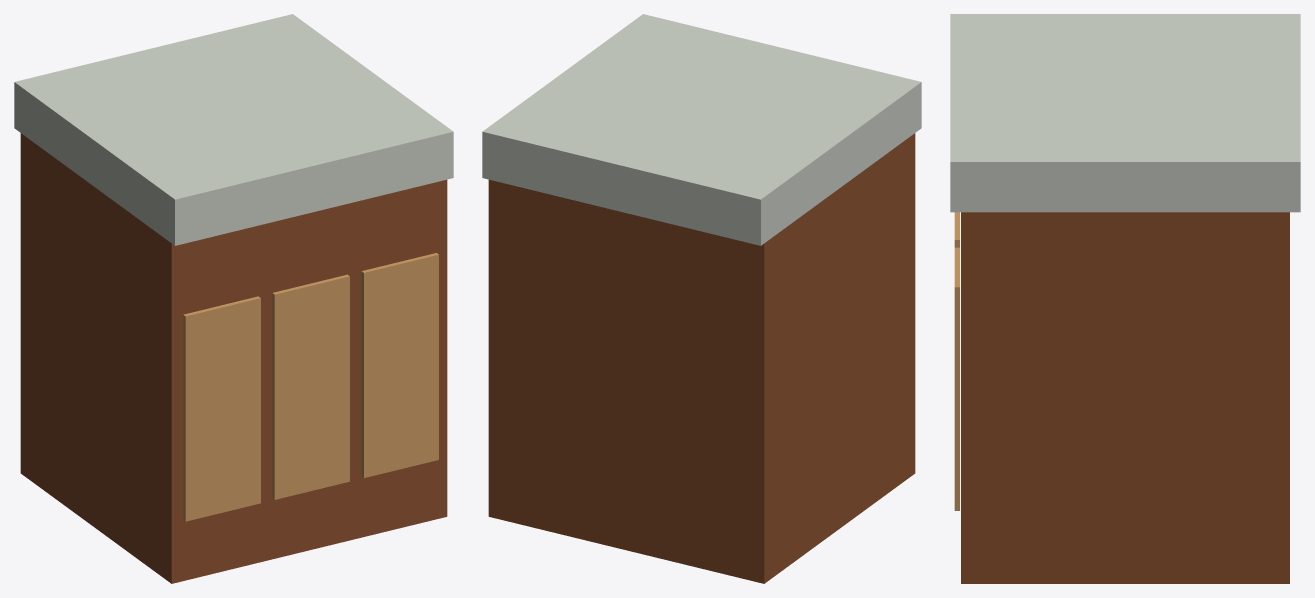
Rendered from barrel.glb.
The picture shows the model from 3 angles, left to right: view 1: azimuth 30°, elevation 25°; view 2: azimuth 150°, elevation 25°; view 3: azimuth 270°, elevation 25°; orthographic projection. The views are drawn at different scales.
Size of the model in its own units: 0.598 by 0.7965 by 0.598.
Materials: 1 (1 with a texture image).
